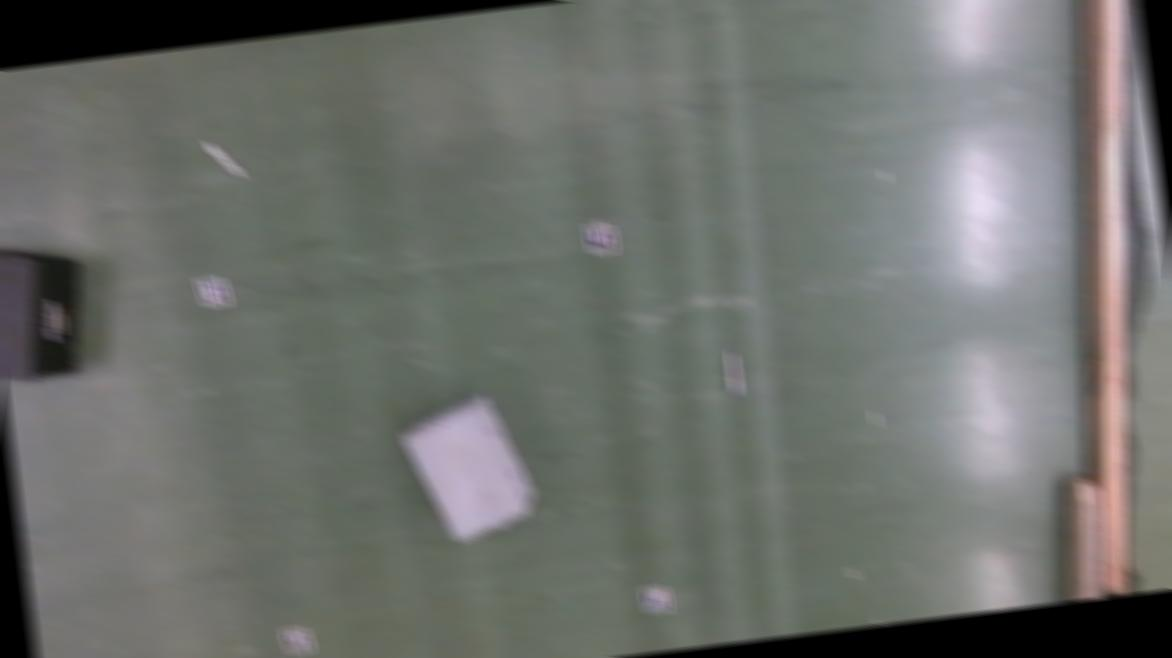probes: (204, 134, 244, 180), (726, 347, 744, 392)
rako: (396, 386, 540, 545), (0, 235, 92, 383)
